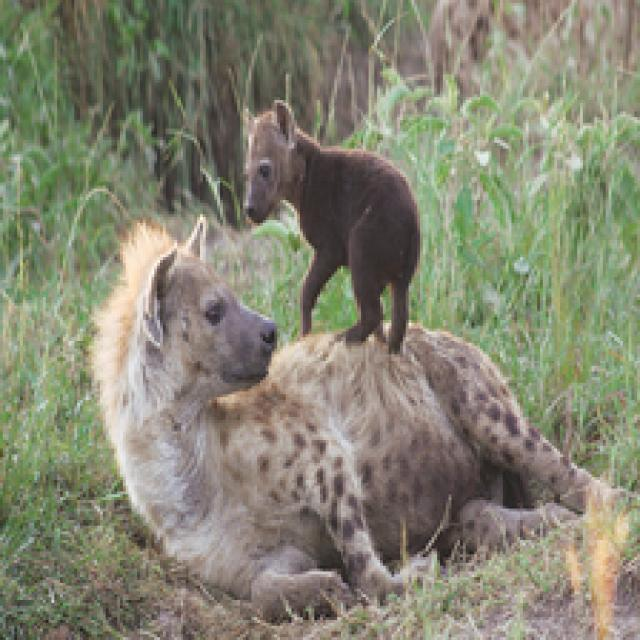hyena: (72, 215, 617, 613), (219, 103, 435, 332)
